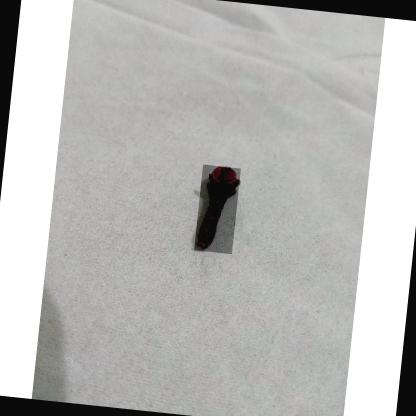baik: (195, 168, 239, 251)
